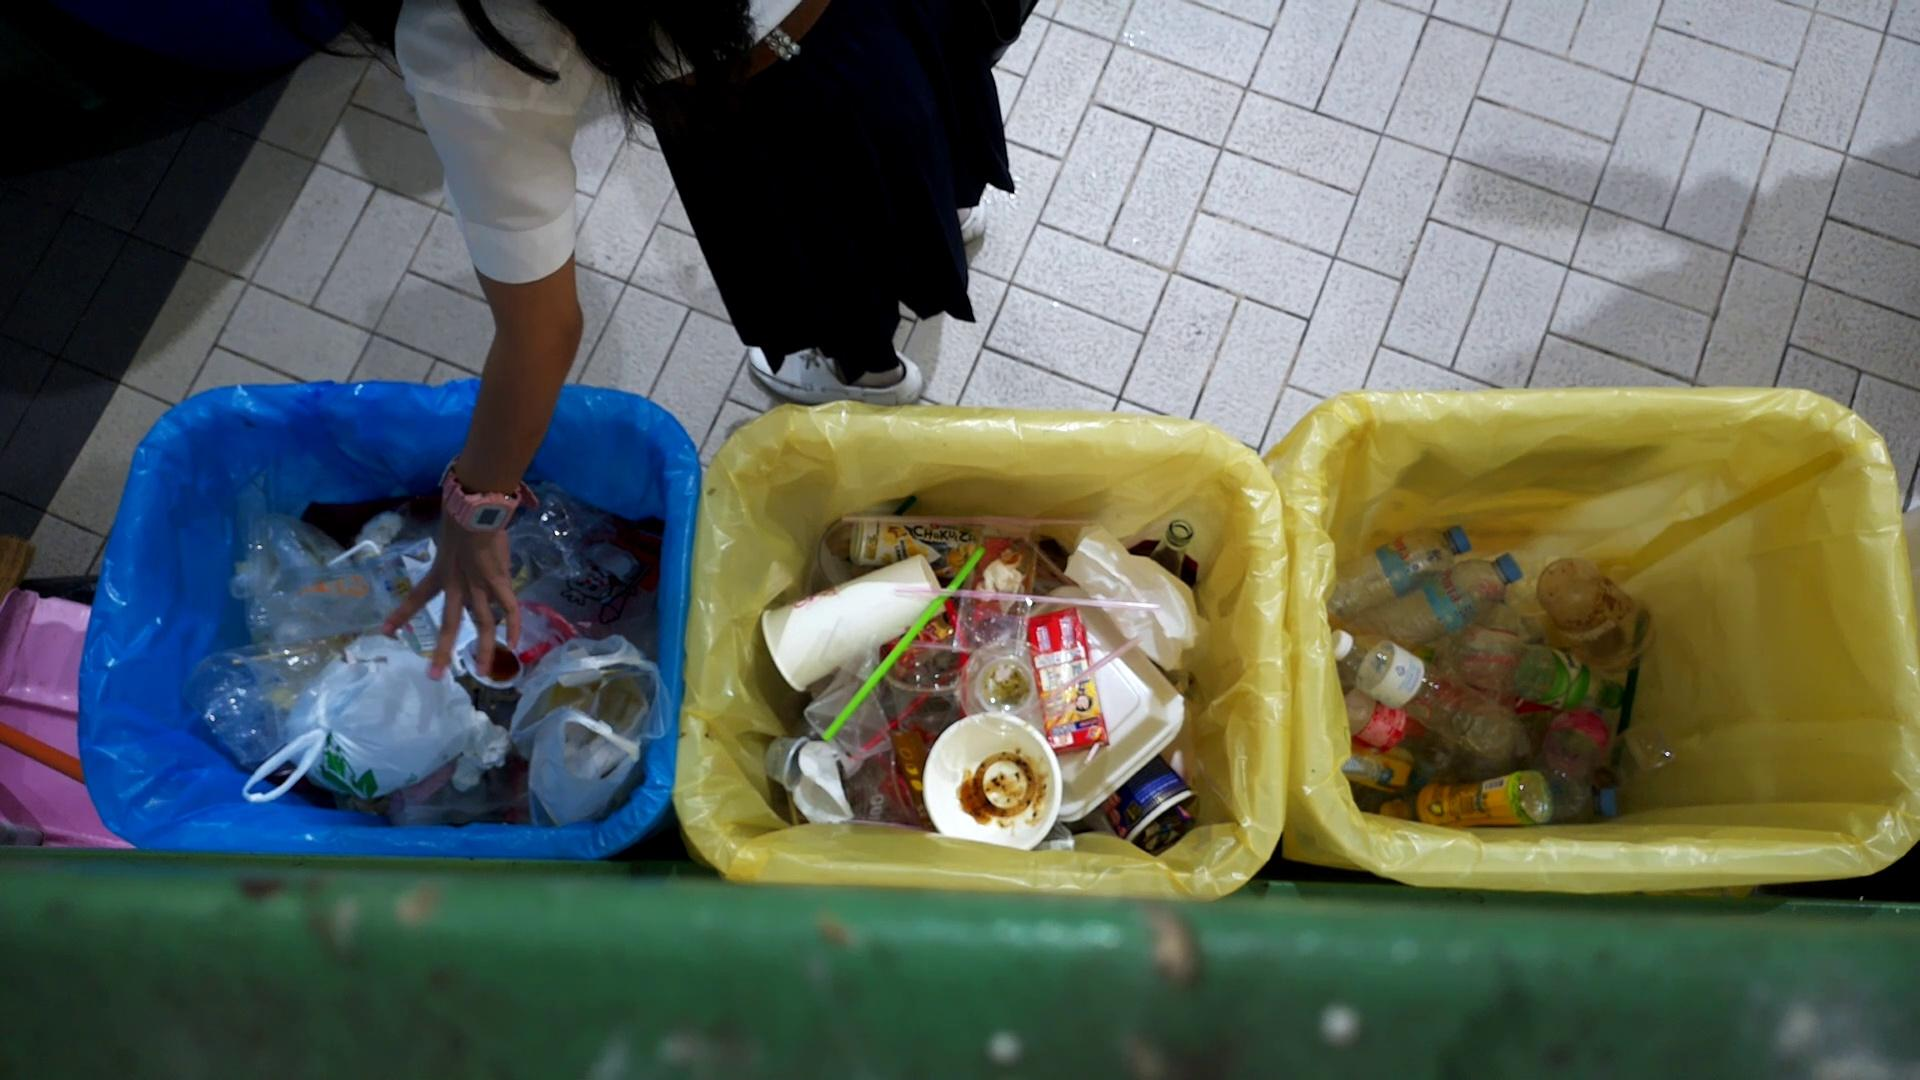filled plastic bag: (240, 632, 472, 798), (506, 634, 662, 825)
food container: (922, 709, 1064, 851), (972, 651, 1040, 717), (468, 626, 524, 690)
milk carton: (1025, 608, 1110, 752)
plastic bag: (224, 510, 364, 644), (262, 558, 389, 650)
plastic bottle: (1329, 628, 1527, 774), (1379, 522, 1534, 655), (1324, 530, 1470, 624), (1389, 758, 1552, 828)
plastic cup: (1536, 554, 1658, 674)
straw: (820, 549, 986, 742)
tissue paper: (451, 719, 513, 793)
zero waste cup: (762, 556, 945, 694)
